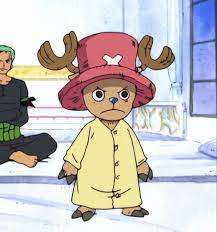chopper: (37, 30, 178, 127)
